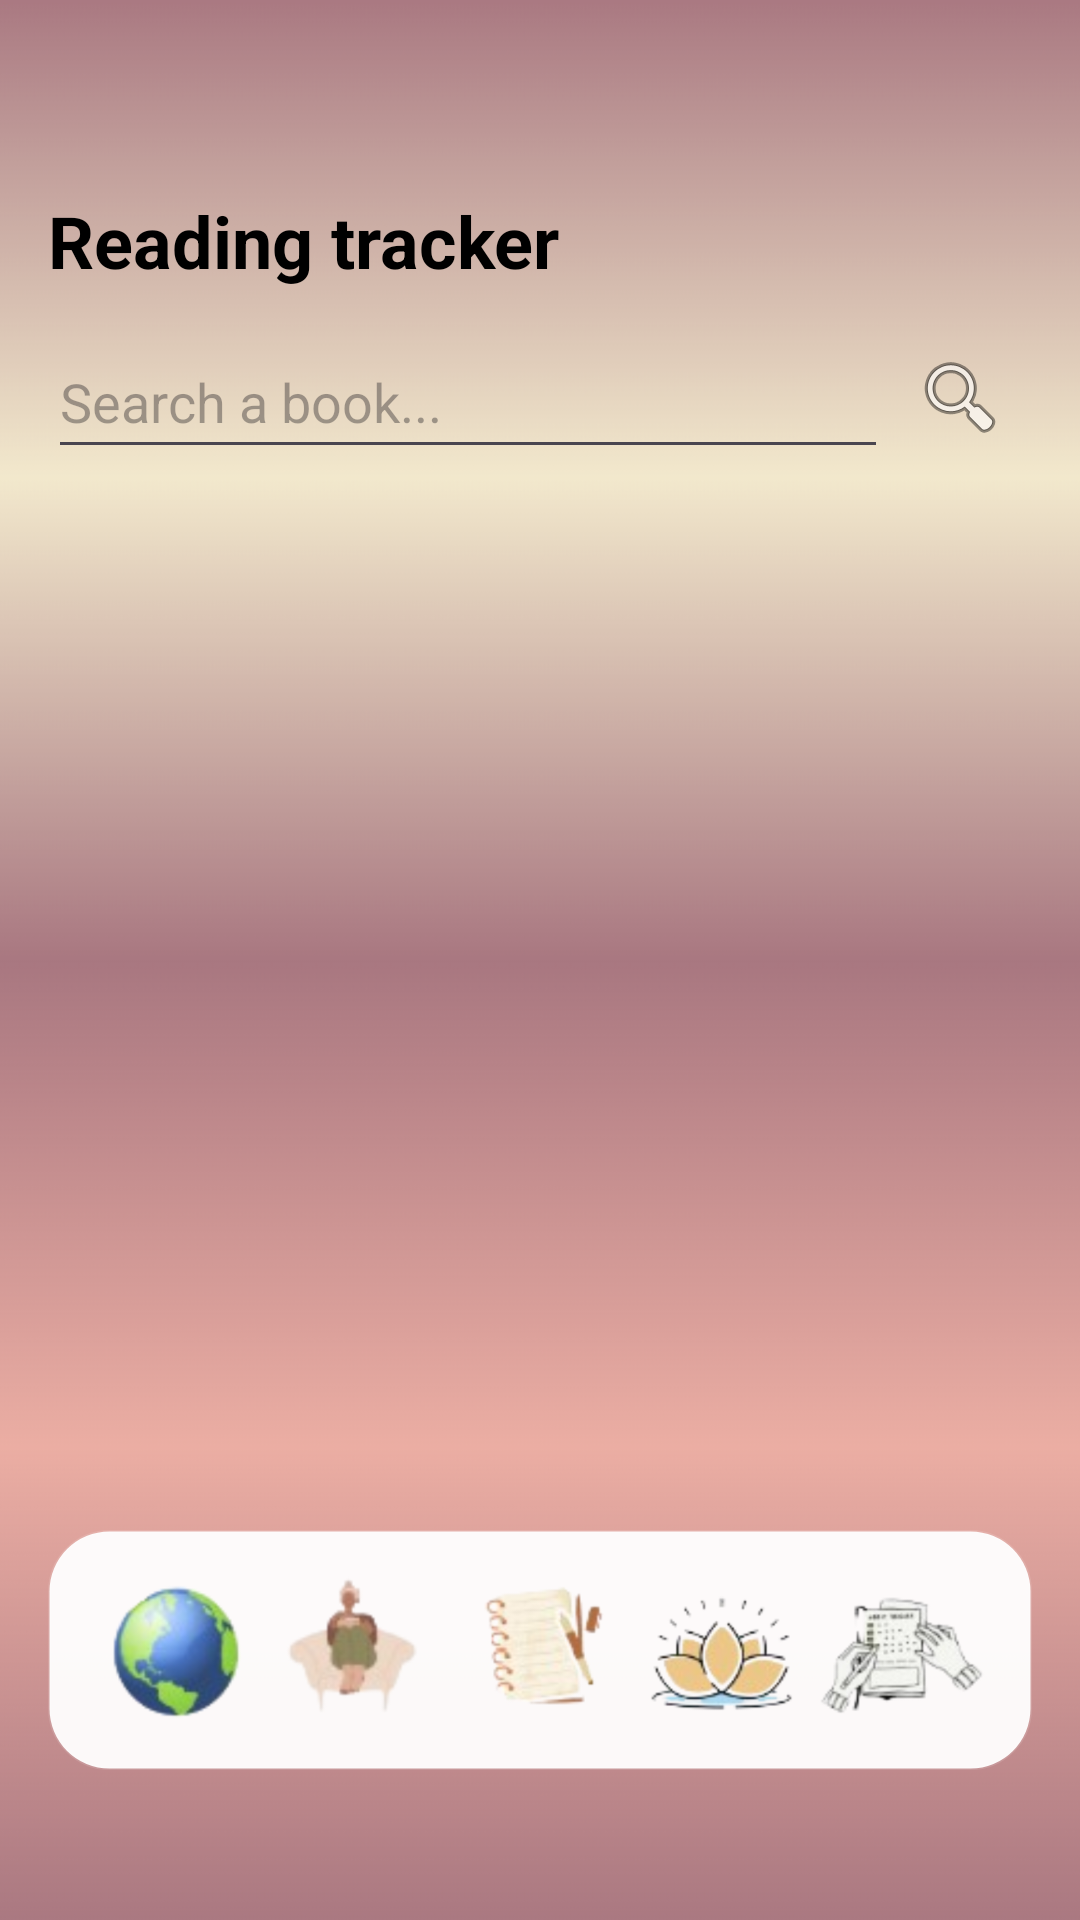

Where icons sit on this 1080w x 1920h app screen, as (x1, y1, x2, y2):
journal: (486, 1589, 602, 1704)
travels: (113, 1587, 239, 1716)
